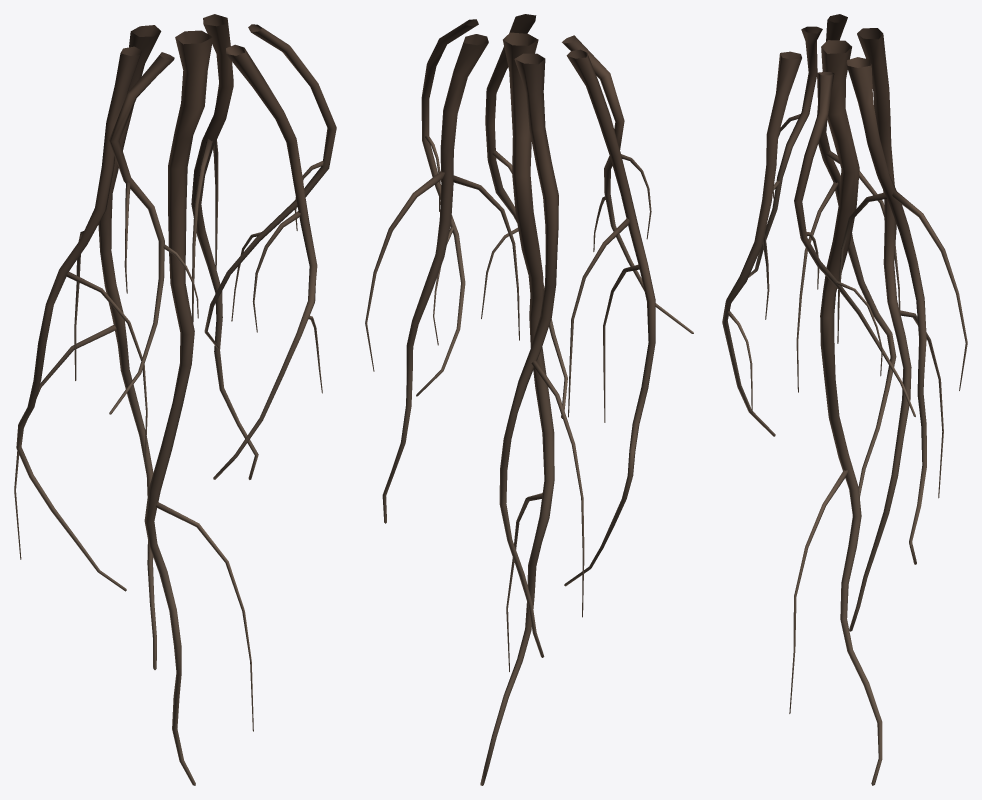
The model's file is hanging_roots.glb.
3 views of the same model, side by side, from view 1: azimuth 30°, elevation 25°; view 2: azimuth 150°, elevation 25°; view 3: azimuth 270°, elevation 25° (orthographic). The views are drawn at different scales.
Parts seen in each view (by area): view 1: HangingRoots; view 2: HangingRoots; view 3: HangingRoots.
Part boxes in pixels (x1,y1,x2,y2): HangingRoots: (14,14,336,785); HangingRoots: (365,14,693,785); HangingRoots: (722,14,967,785).
Size of the model in its own units: 1.42 by 3.87 by 1.18.
